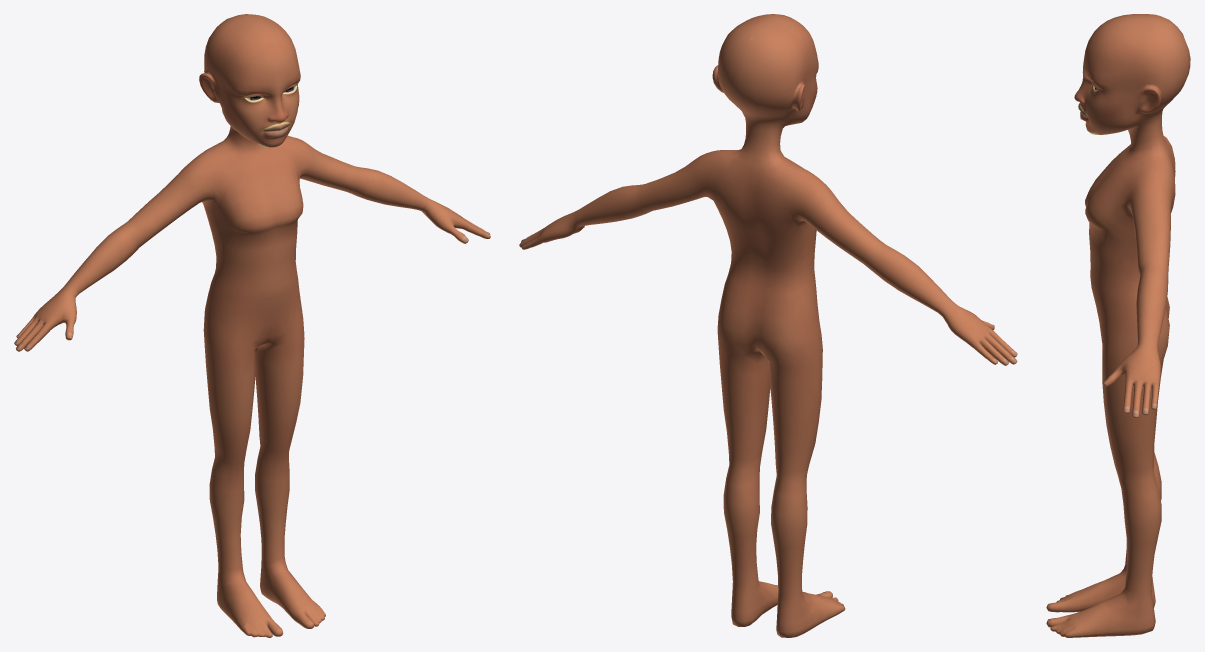
File: frame_0075.glb
3 views of the same model, side by side, from view 1: azimuth 30°, elevation 25°; view 2: azimuth 150°, elevation 25°; view 3: azimuth 270°, elevation 25° (orthographic). The views are drawn at different scales.
Parts seen in each view (by area): view 1: frame_0075_head_geo; view 2: frame_0075_head_geo; view 3: frame_0075_head_geo.
Part boxes in pixels (<box>): frame_0075_head_geo: <box>14,14,490,637</box>; frame_0075_head_geo: <box>519,14,1017,637</box>; frame_0075_head_geo: <box>1046,14,1190,637</box>.
Bounding box in the file's own units: 1.28 × 1.5 × 0.3253.
Materials: 3 (3 with a texture image).
